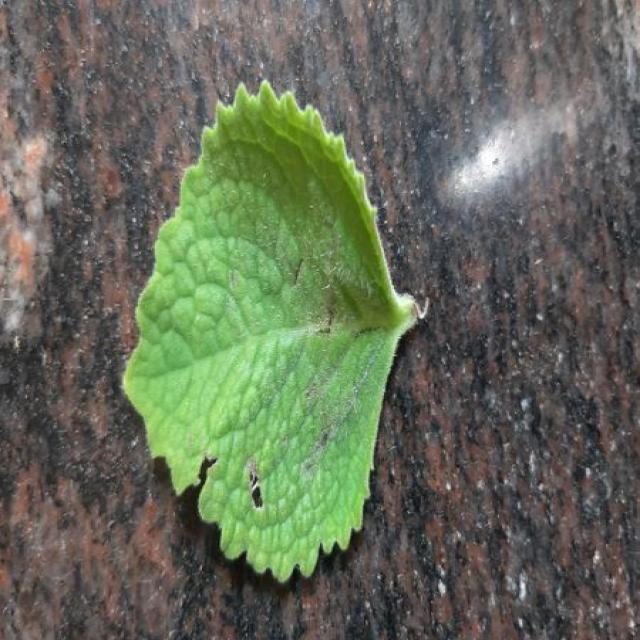doddpathre: (123, 82, 417, 581)
